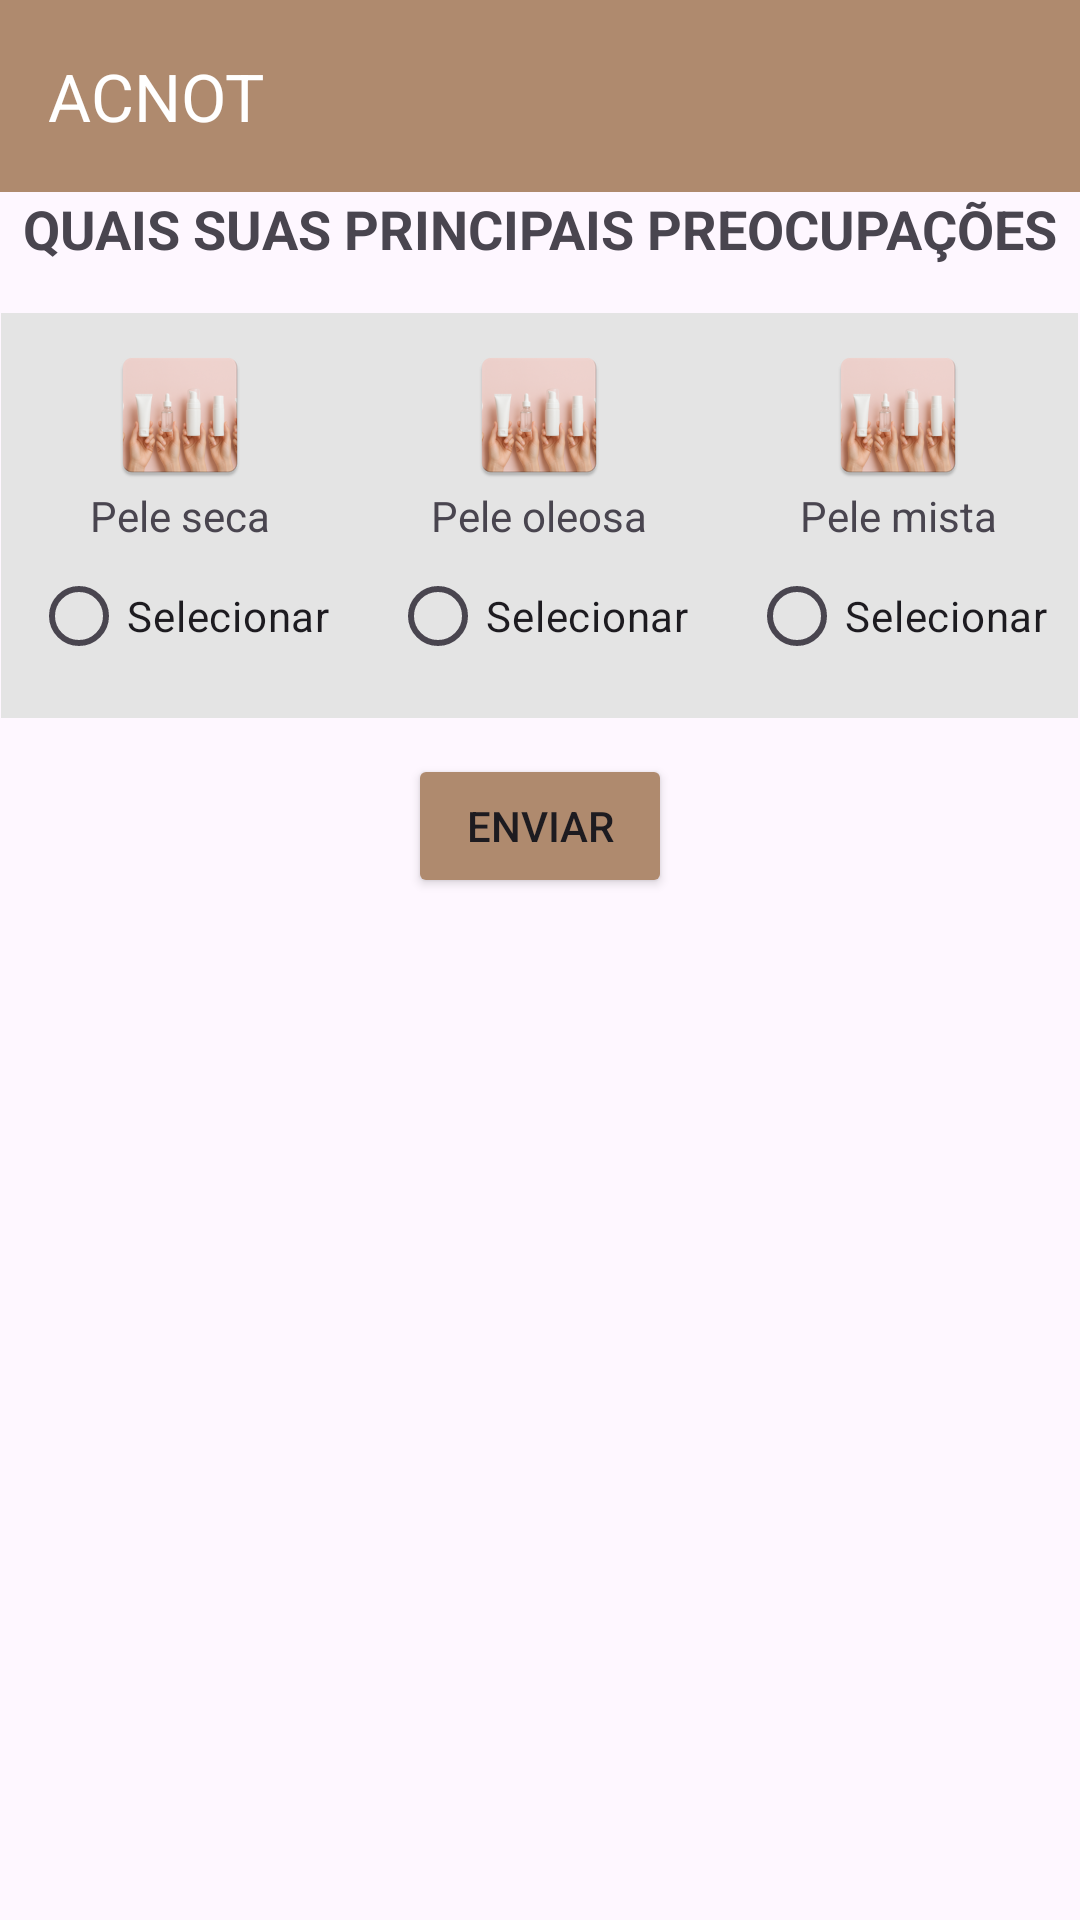

Icons on this 1080×1920 Android screen, each with the point to tap as point (x, y):
imgskincare: point (180, 417), point (539, 417), point (898, 417)
